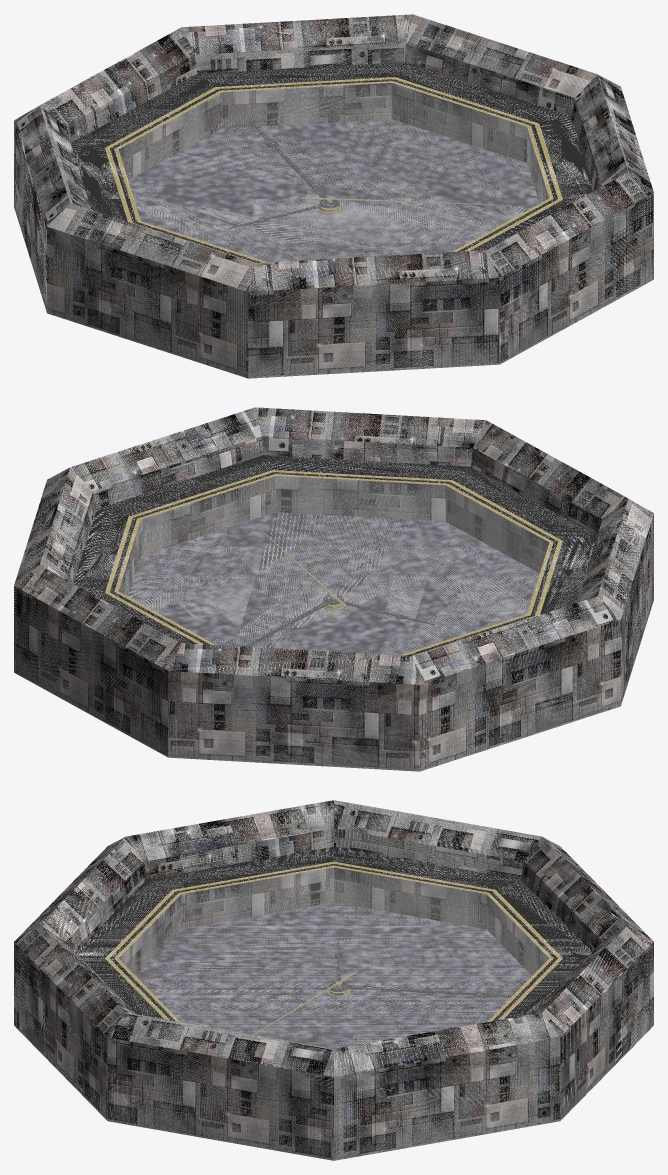
The picture shows the model from 3 angles, top to bottom: view 1: azimuth 30°, elevation 25°; view 2: azimuth 150°, elevation 25°; view 3: azimuth 270°, elevation 25°; orthographic projection. The views are drawn at different scales.
Parts seen in each view (by area): view 1: SketchUp (×8), hands; view 2: SketchUp (×8); view 3: SketchUp (×8), hands.
Part boxes in pixels (x1=…): SketchUp (×8): x1=14, y1=14, x2=653, y2=378; hands: x1=249, y1=120, x2=339, y2=206; SketchUp (×8): x1=14, y1=407, x2=653, y2=771; SketchUp (×8): x1=14, y1=800, x2=653, y2=1160; hands: x1=329, y1=982, x2=512, y2=997.
Bounding box in the file's own units: 15.24 × 15.24 × 2.85.
